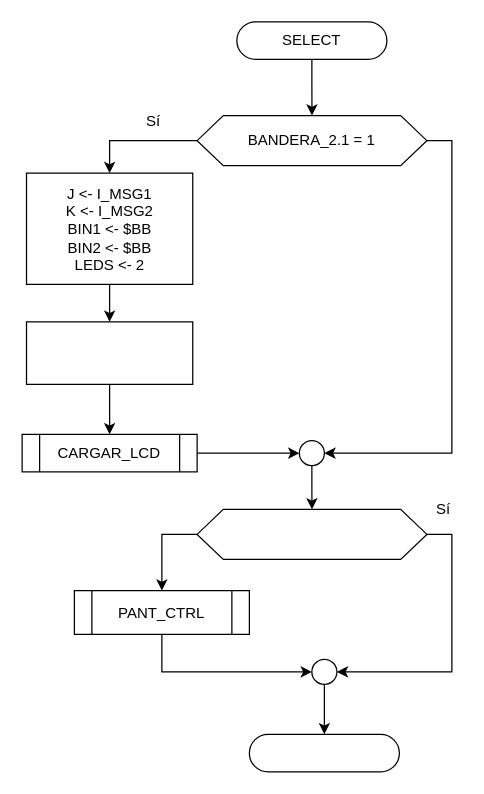
Some shapes in this 484 by 794 pixel diagram are drawn without their labels. Here are the shapes that lost their labels. From the top down, the centre of each, then its label:
At (109,352): "PIEH <-$09 TSCR2.7 <- 1".
At (311,533): "VELOC = 0".
At (323,752): "RETORNAR".
